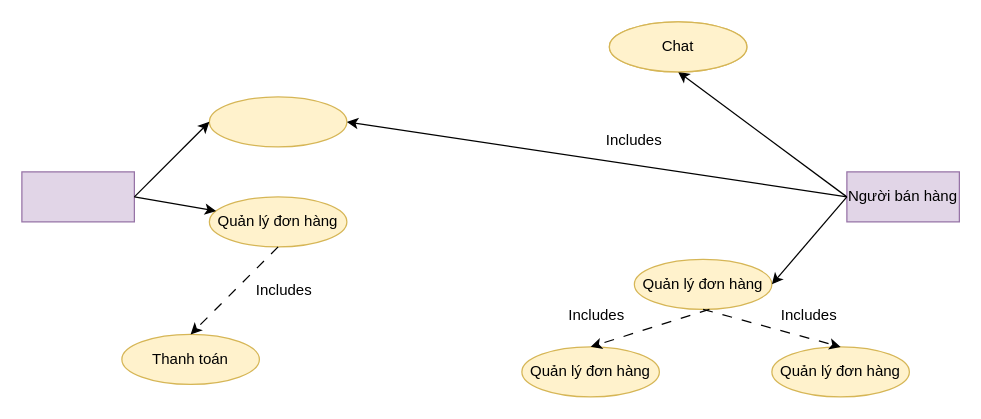
Image size: 981x419. Some labels were removed from this diagram. The shapes that lost their labels are listed below. From the top down, each one's box as (x1, y1, x2, y2) in pixels, then its label:
(208, 96, 347, 147): Đăng nhập
(21, 171, 134, 222): Khách hàng
